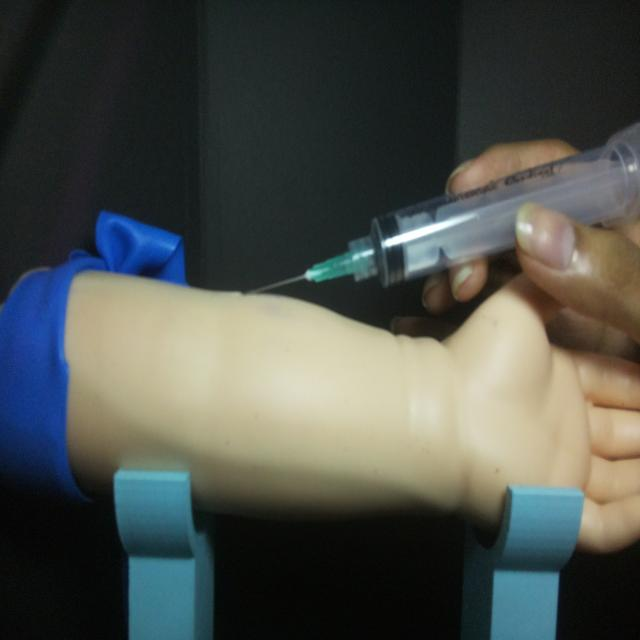18deg: (243, 118, 638, 300)
